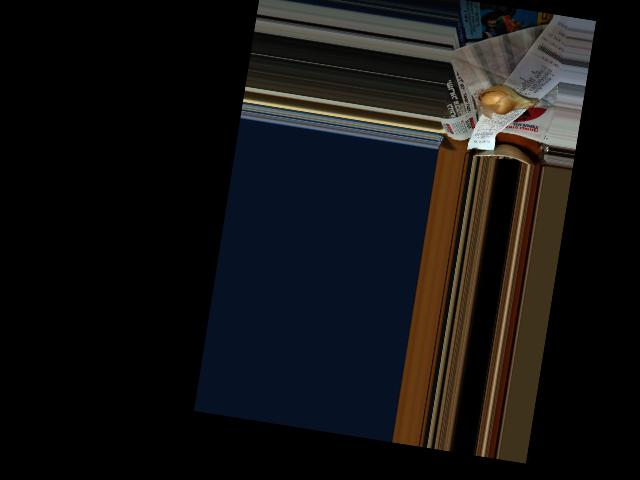onion: (476, 81, 534, 119)
